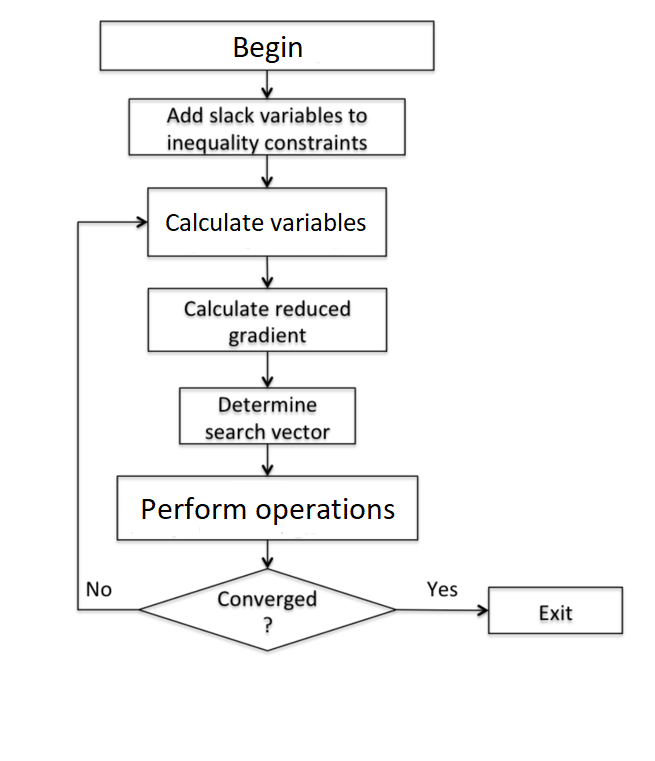arrow: (71, 211, 152, 616), (387, 601, 490, 618), (257, 348, 277, 389), (259, 442, 278, 476), (259, 252, 276, 290), (259, 152, 276, 187), (258, 67, 275, 101), (258, 537, 276, 569)
decision: (137, 566, 402, 655)
process: (112, 471, 425, 544), (95, 15, 439, 76), (141, 183, 392, 261), (125, 94, 413, 161), (143, 283, 393, 355), (175, 382, 359, 447), (483, 583, 627, 636)
text: (164, 104, 370, 154), (180, 296, 354, 348), (137, 495, 397, 525), (206, 394, 334, 442), (214, 587, 321, 638), (164, 209, 369, 235), (232, 32, 304, 65), (537, 601, 576, 626), (426, 578, 462, 602), (84, 579, 116, 601)
